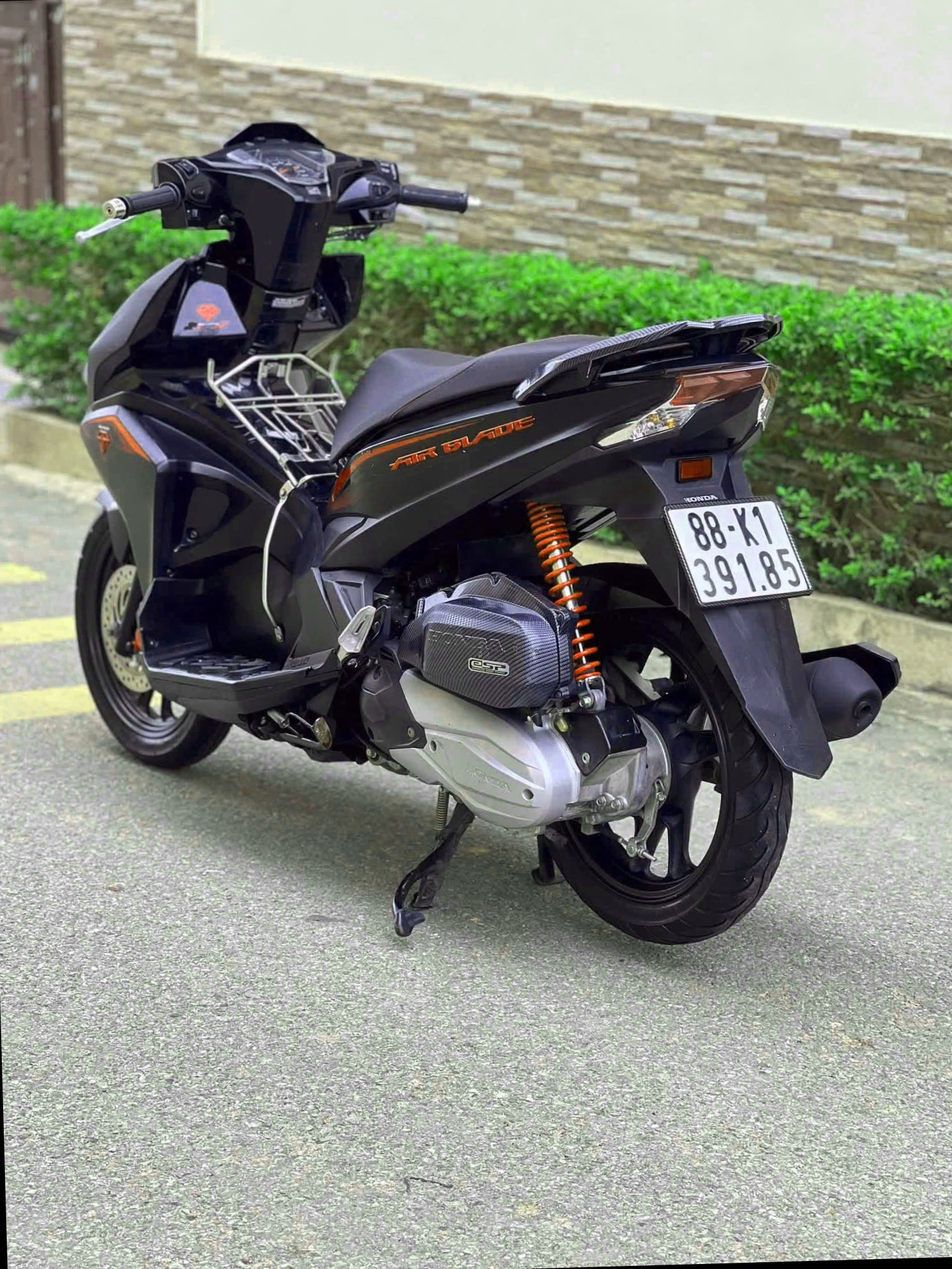Bien-so: (665, 512, 806, 618)
